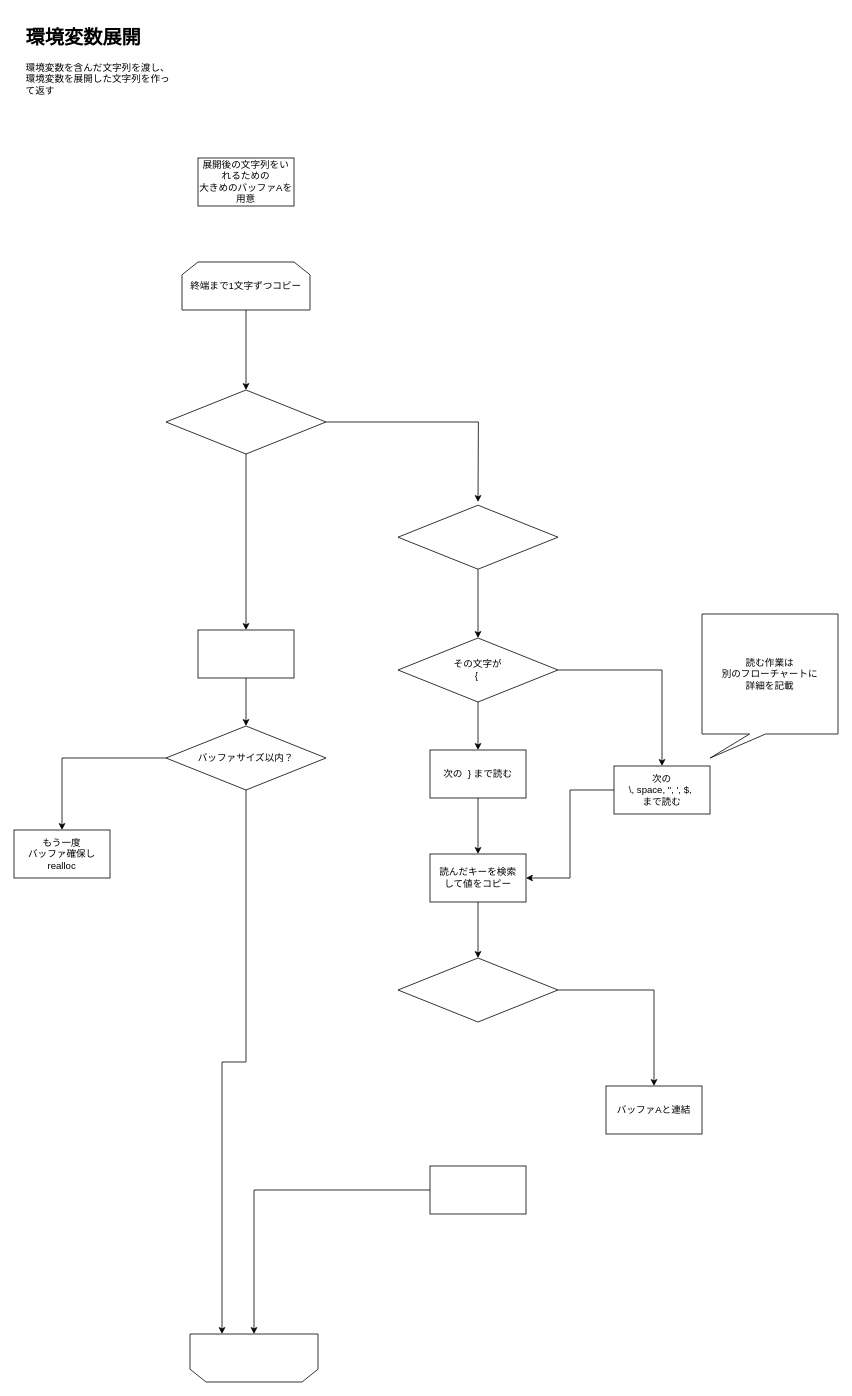
The diagram is 852 pixels wide and 1396 high, and some of its shapes have lost their labels. Each missing label, with the centre of its shape:
$がある？: the point at 245,421
その次の文字が \0 , space, \ , }: the point at 477,536
一文字コピー インクリメント: the point at 245,653
値が見つかれば？: the point at 477,989
読んだ文字数 インクリメント: the point at 477,1189
